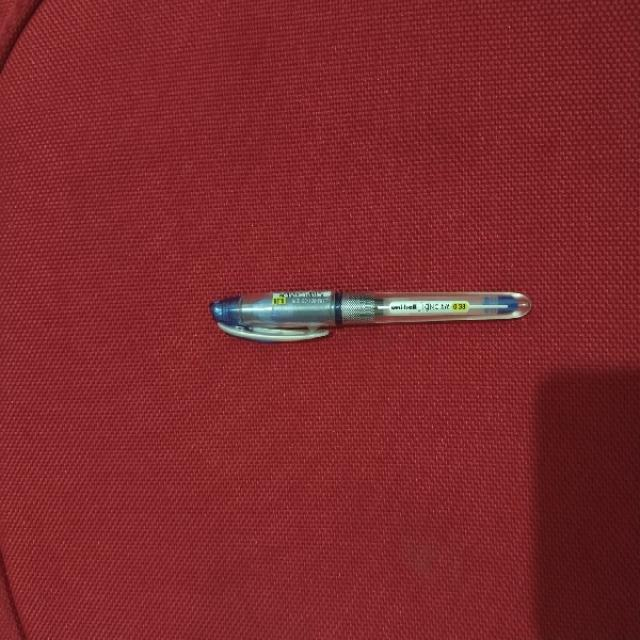pen: (210, 290, 530, 341)
